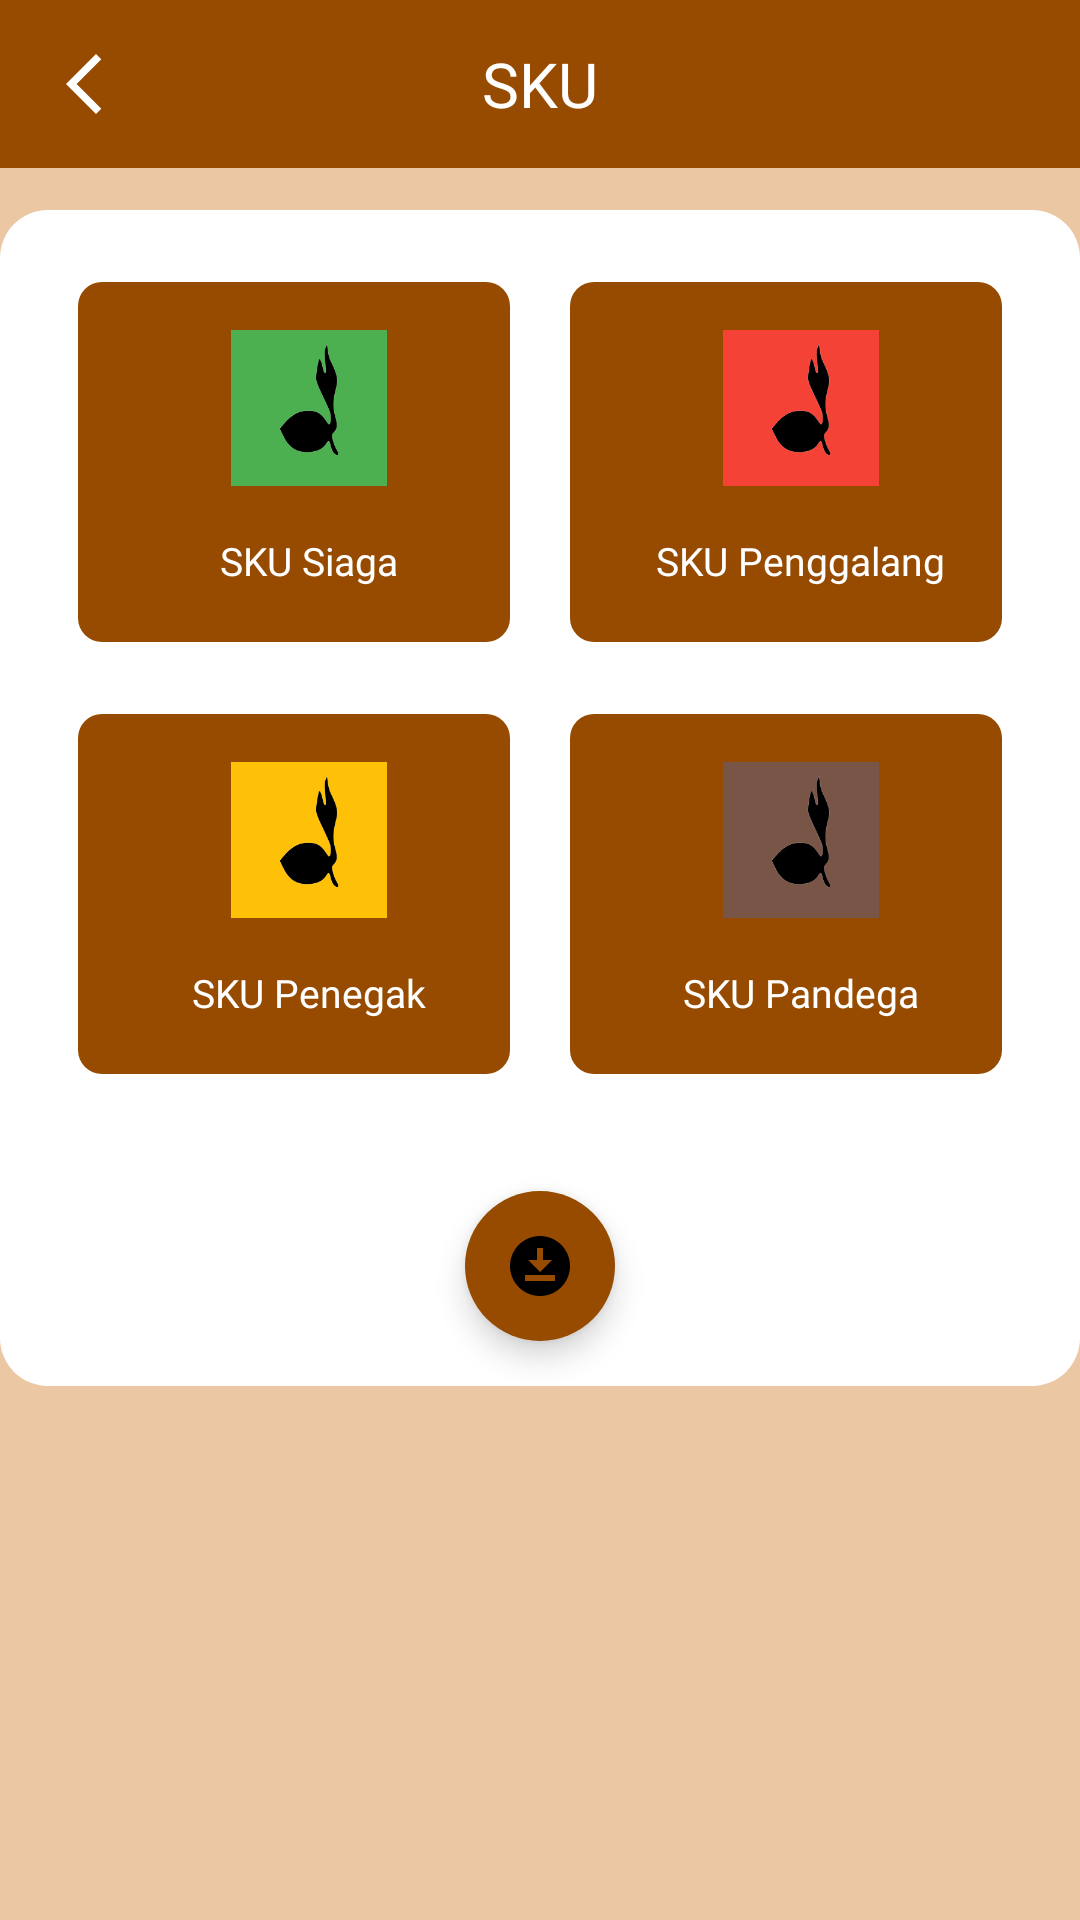

Icon click points for this 1080 × 1920 phone screenshot, format [x,y]:
back: [83,84]
download: [540,1266]
